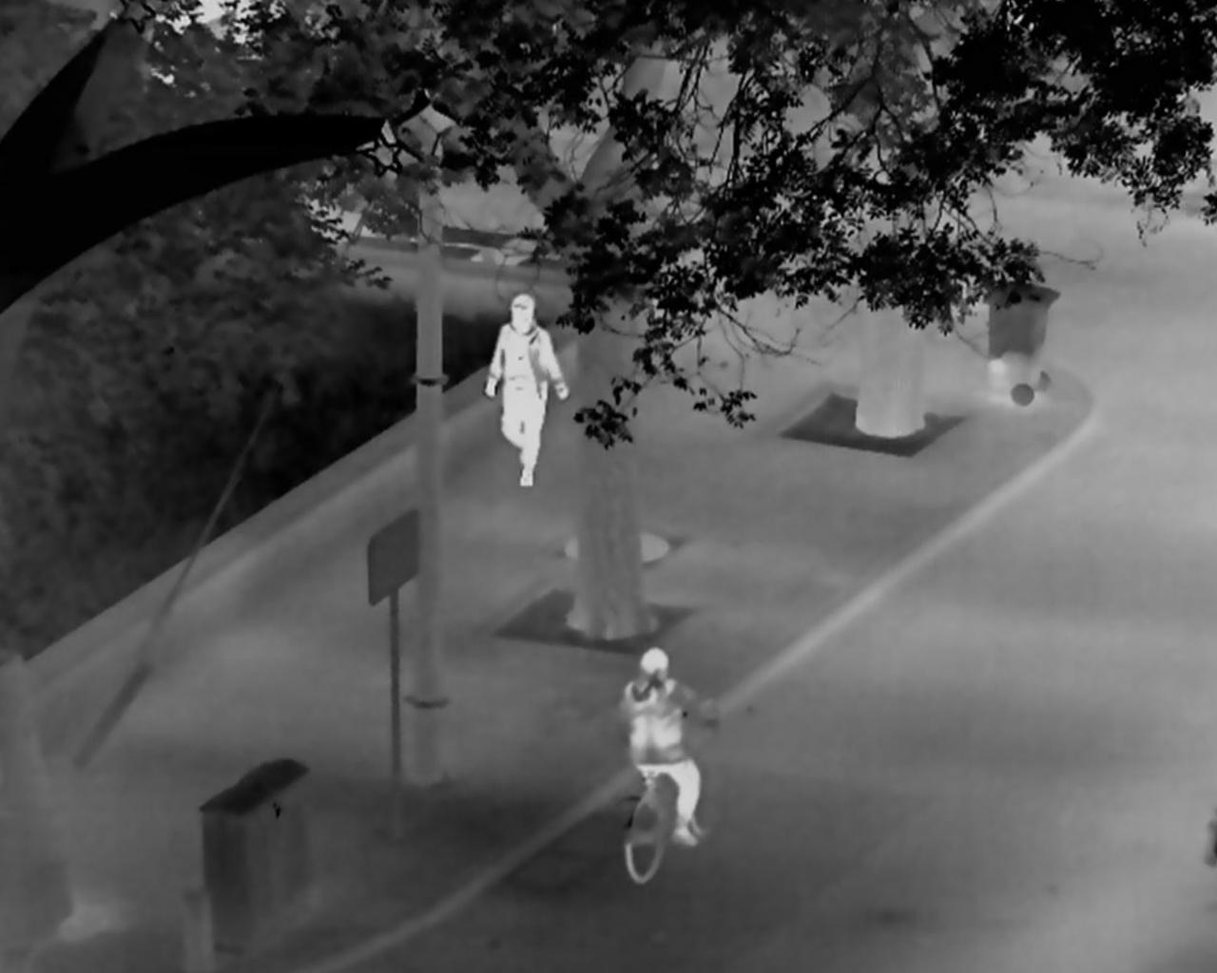person: (619, 646, 710, 848), (484, 292, 570, 487)
